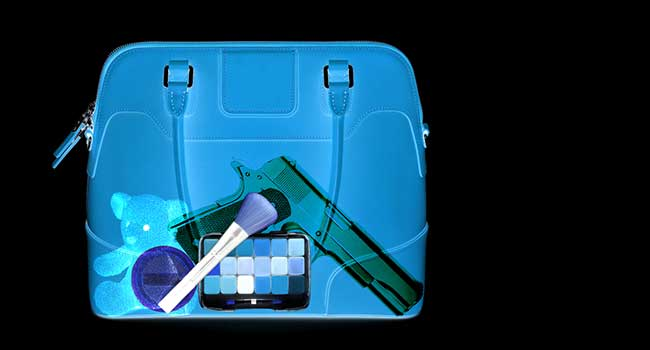gun: (166, 149, 429, 323)
